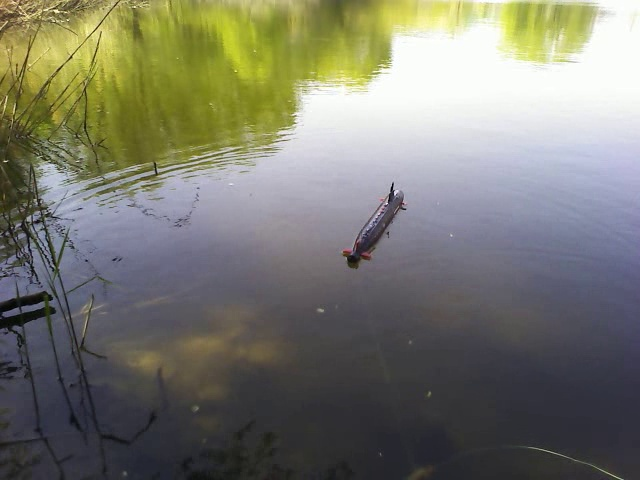submarine: (340, 181, 409, 266)
